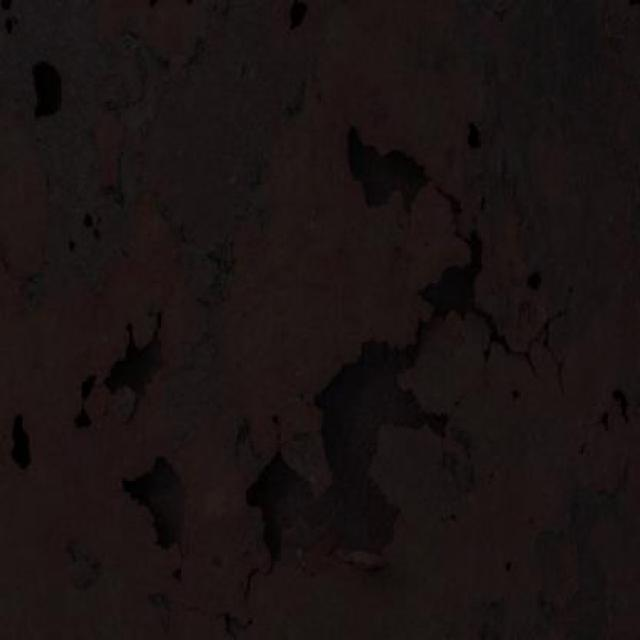Hole: (313, 253, 529, 556), (105, 427, 238, 572), (83, 292, 182, 406), (357, 111, 439, 226)
